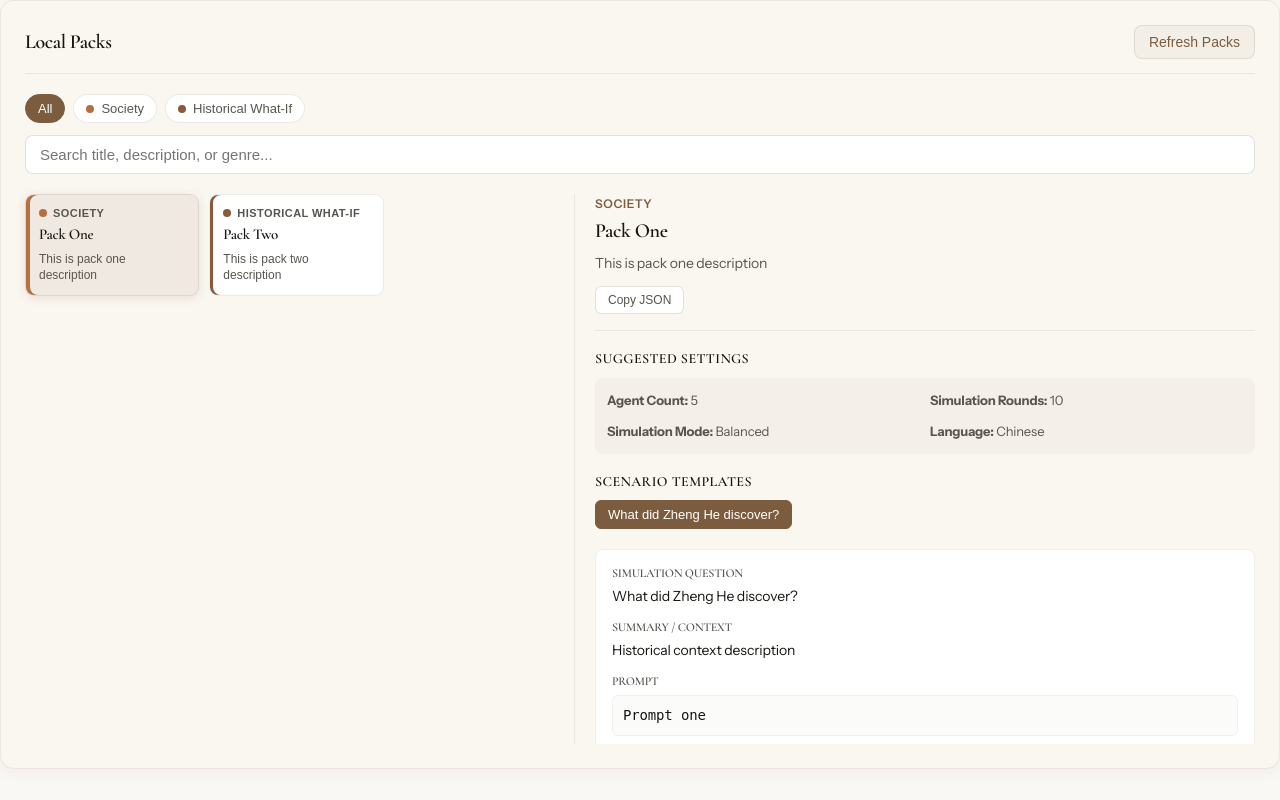
Test: LocalPackPicker › clears pack A detail and actions when loading pack B detail fails
The width and height of the screenshot is (1280, 800).
Expected: the text "Prompt one" is shown, [612, 695, 1238, 736]
Step 1. Click the button "Historical What-If Pack Two This is pack two description" → click(296, 245), box [209, 194, 384, 296]
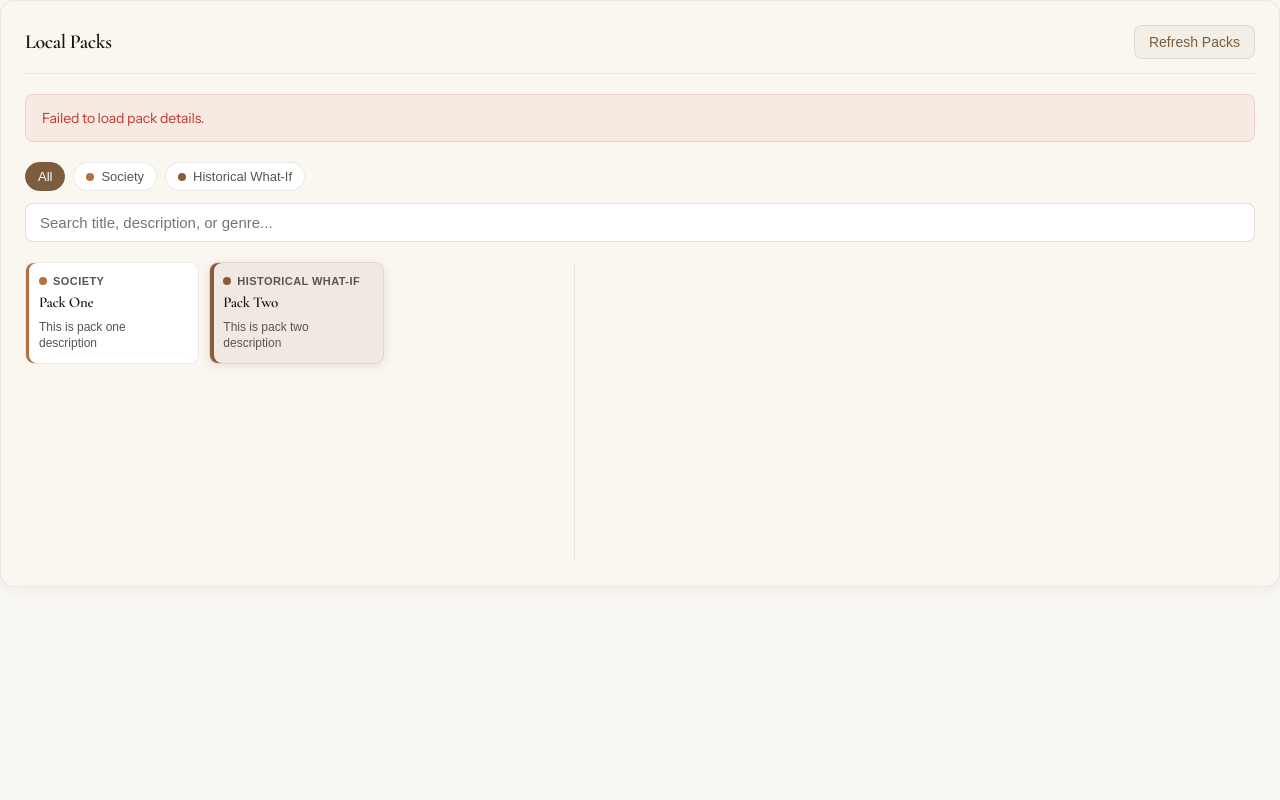
Expected: the message reads "Failed to load pack details.", [42, 109, 204, 127]
Expected: the text "Prompt one" is gone
Expected: the button "Copy JSON" is gone
